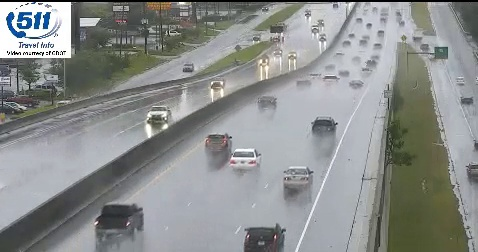car: (95, 203, 144, 237), (243, 224, 285, 252), (283, 166, 312, 189), (230, 149, 261, 170), (205, 133, 232, 153), (311, 117, 334, 136)
